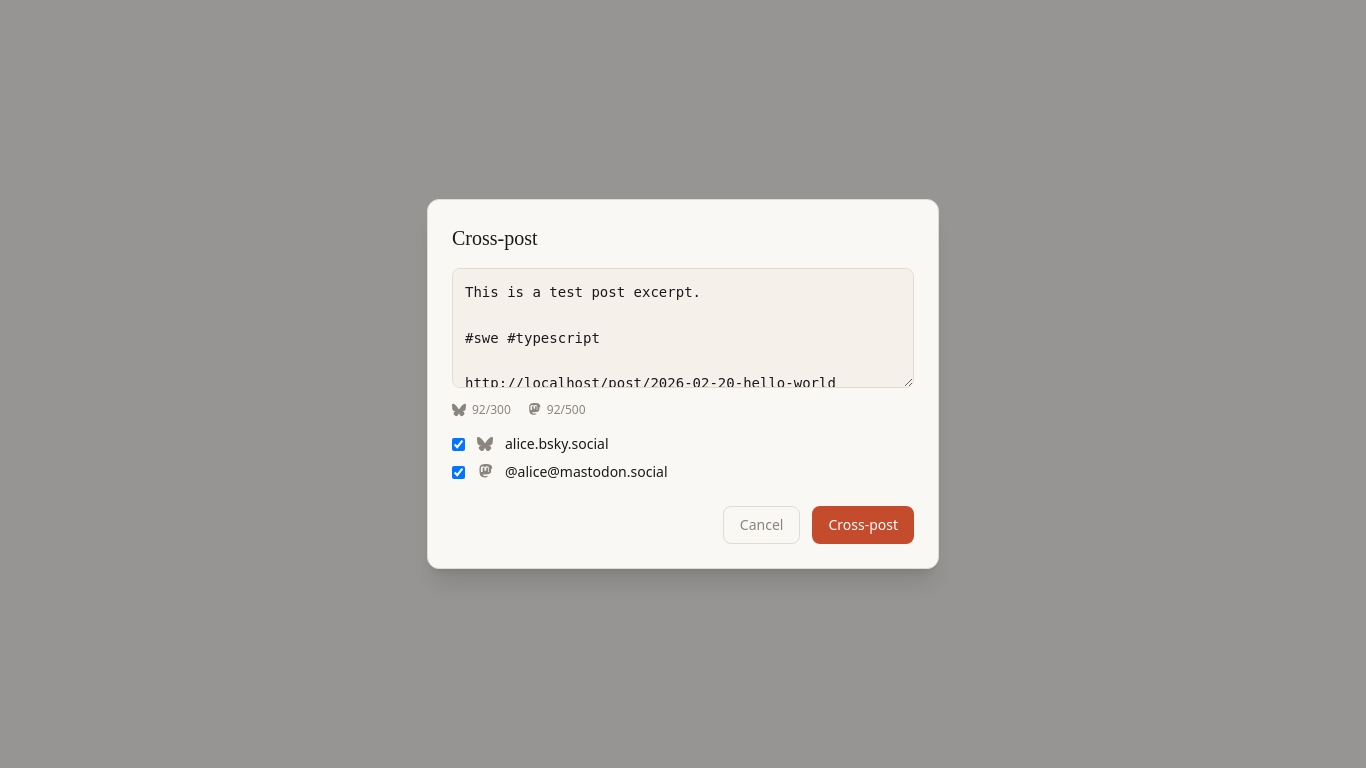
Test case: CrossPostDialog › disables cross-post button when no platforms selected
Click the checkbox labelled "alice.bsky.social": {"x": 458, "y": 444} x1=452 y1=438 x2=465 y2=450
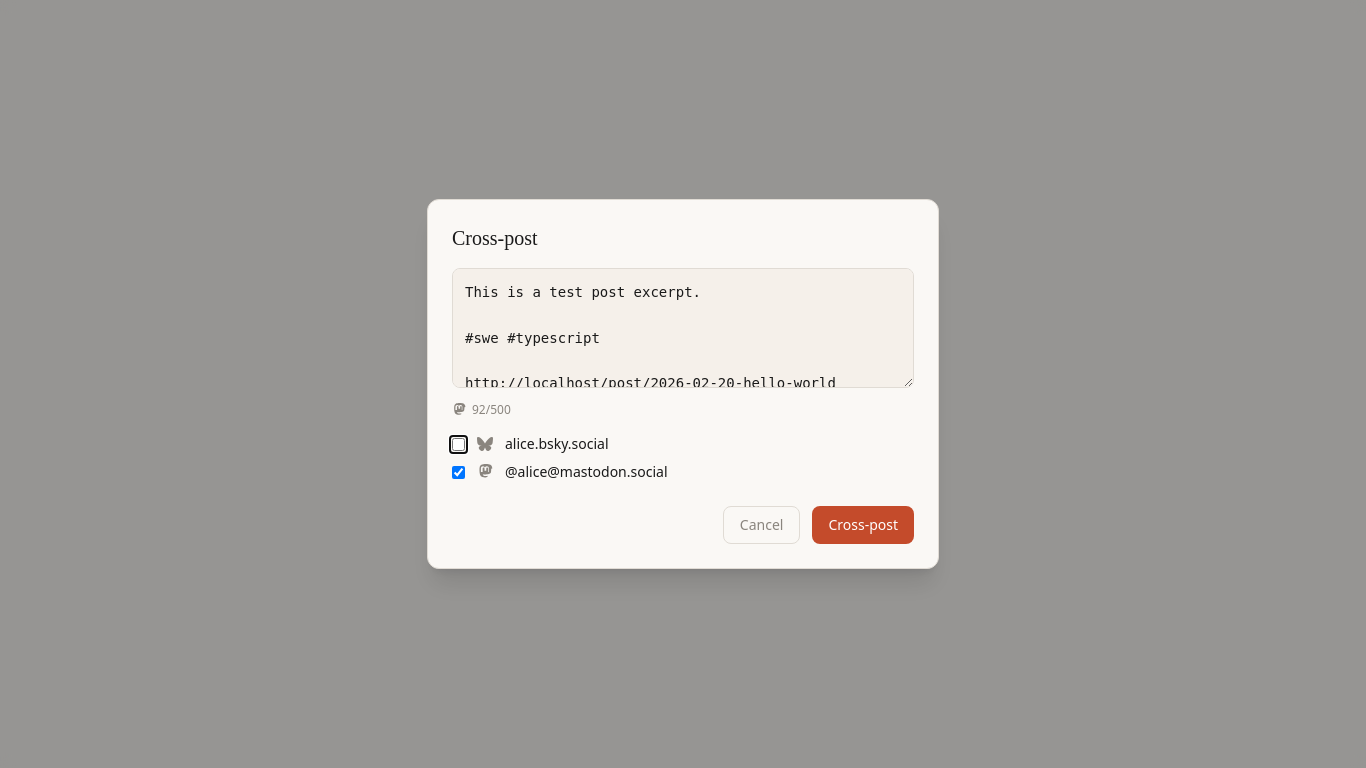
Click the checkbox labelled "@alice@mastodon.social": {"x": 458, "y": 472} x1=452 y1=466 x2=465 y2=478
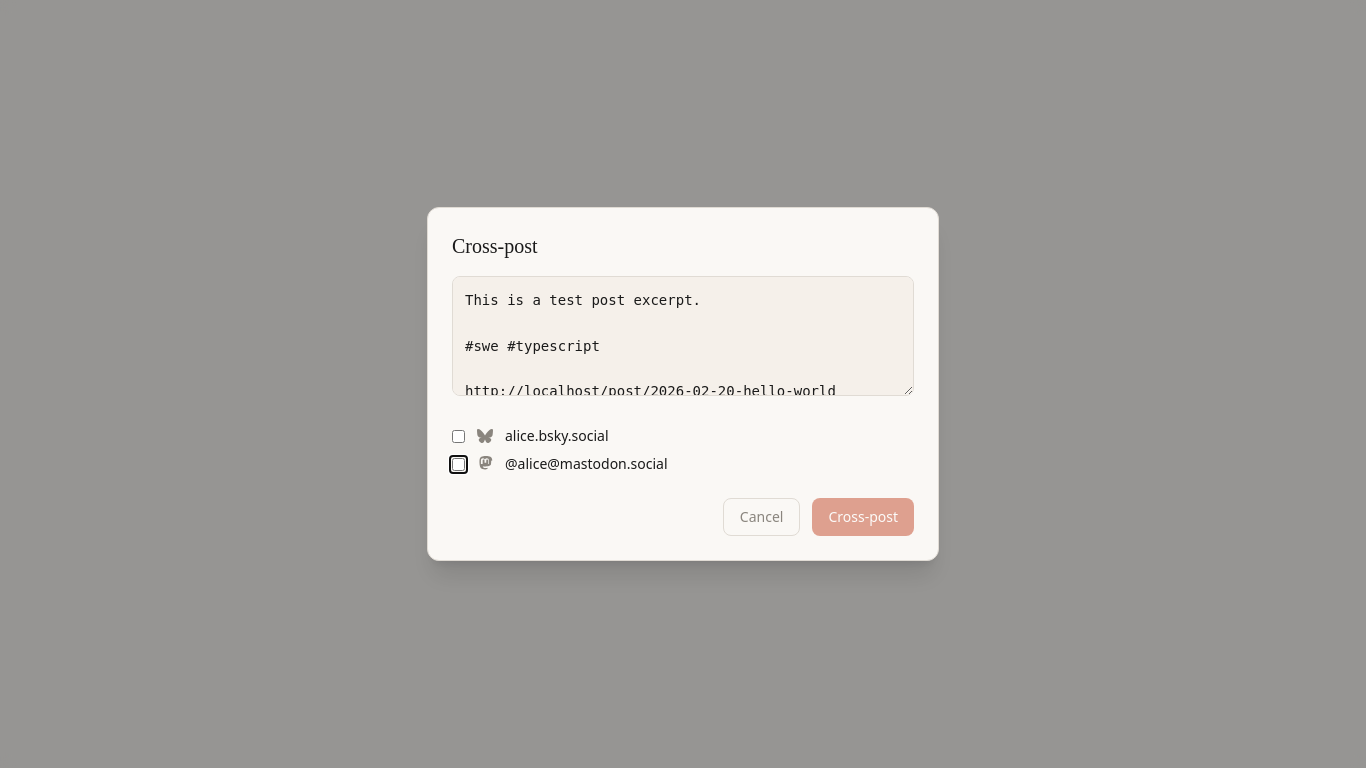
Now the button "Cross-post" is disabled, box x1=812 y1=498 x2=914 y2=536
